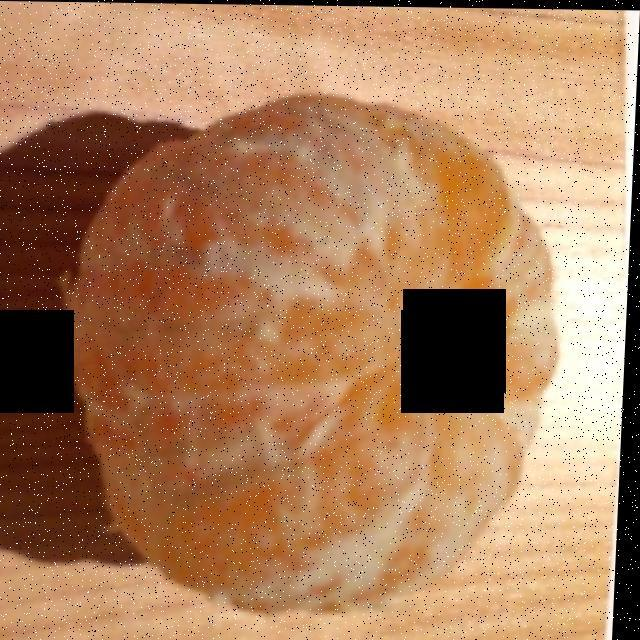mandarine: (126, 95, 563, 601)
